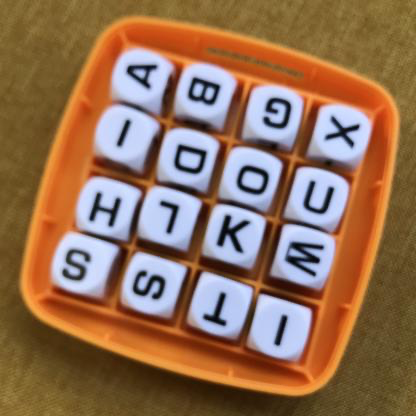a: (119, 45, 164, 99)
b: (184, 67, 235, 121)
d: (169, 138, 213, 178)
g: (255, 89, 305, 143)
h: (85, 183, 130, 236)
i: (262, 305, 302, 359), (109, 111, 141, 159)
k: (214, 208, 257, 263)
l: (151, 196, 188, 246)
o: (232, 163, 274, 203)
s: (52, 240, 105, 287), (132, 259, 173, 307)
t: (200, 287, 241, 336)
u: (292, 171, 347, 225)
w: (284, 233, 333, 284)
x: (322, 105, 368, 157)
